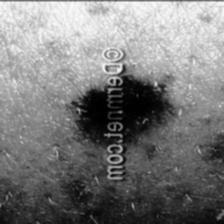Potentially Malignant Skin Tumors: (128, 82, 150, 126), (86, 94, 108, 132)
